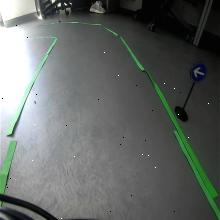left: (189, 62, 207, 82)
